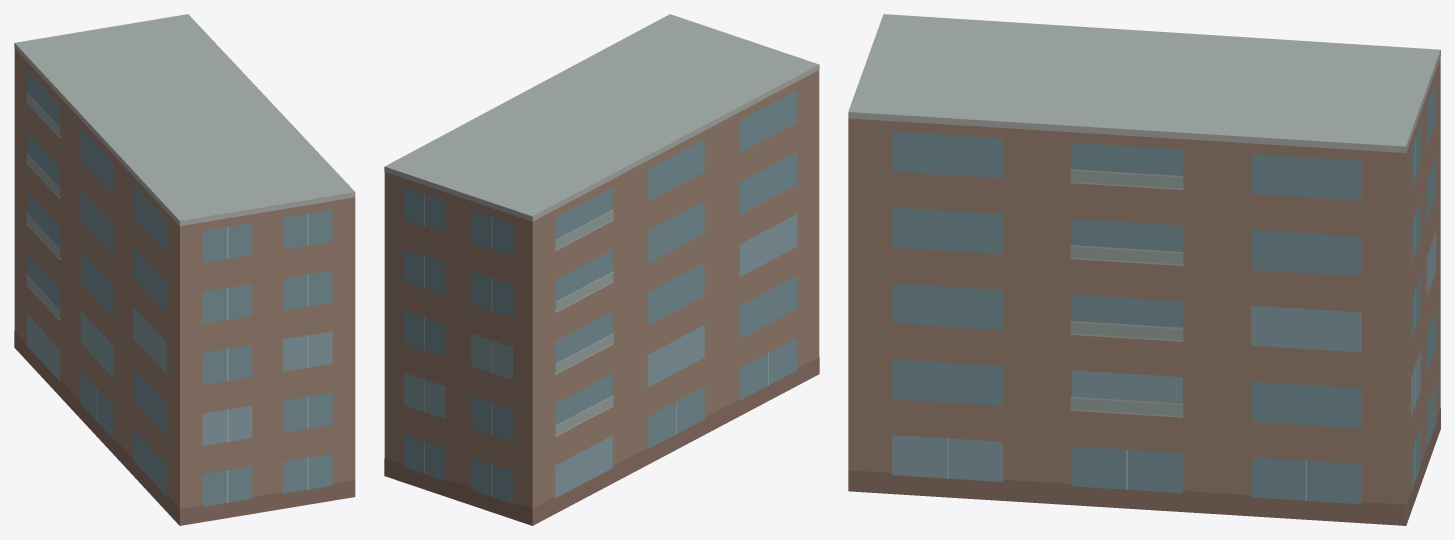
Rendered from survey-upis-32764067.glb.
3 views of the same model, side by side, from view 1: azimuth 30°, elevation 25°; view 2: azimuth 150°, elevation 25°; view 3: azimuth 270°, elevation 25° (orthographic). The views are drawn at different scales.
Visible parts, largest first — view 1: survey-upis-32764067.tmp; view 2: survey-upis-32764067.tmp; view 3: survey-upis-32764067.tmp.
Part boxes in pixels (x1,y1,x2,y2): survey-upis-32764067.tmp: (14, 14, 355, 525); survey-upis-32764067.tmp: (384, 14, 819, 525); survey-upis-32764067.tmp: (848, 14, 1440, 525).
Size of the model in its own units: 10.81 by 14.4 by 20.4.
